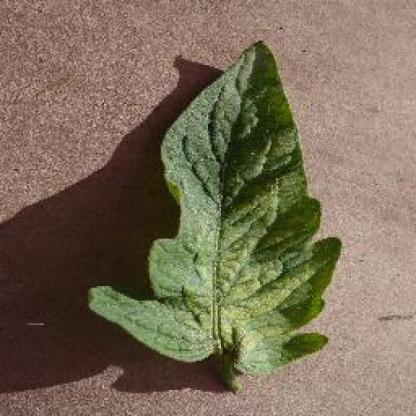Tomato_Spider_Mites: (89, 41, 341, 388)
